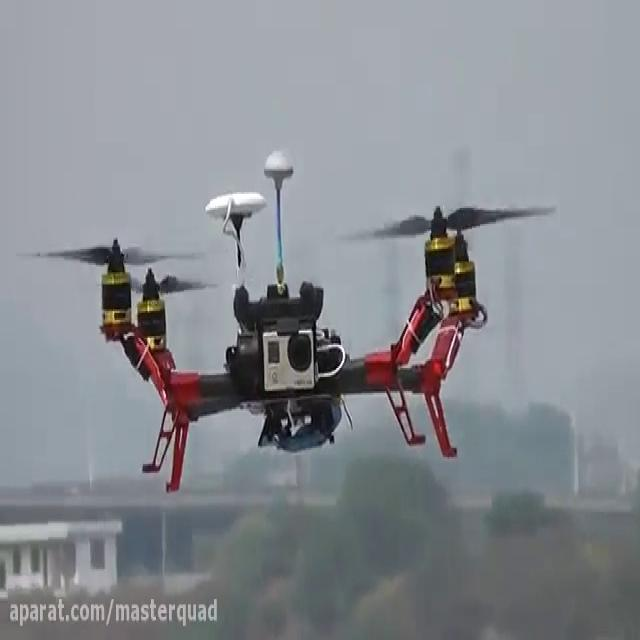drone: (14, 138, 560, 500)
